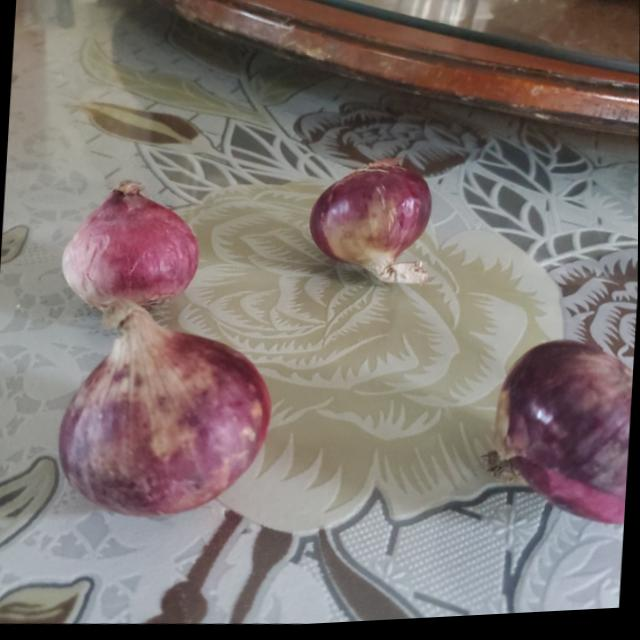onion: (51, 294, 275, 529), (495, 337, 634, 536), (64, 174, 208, 318), (306, 160, 434, 284)
